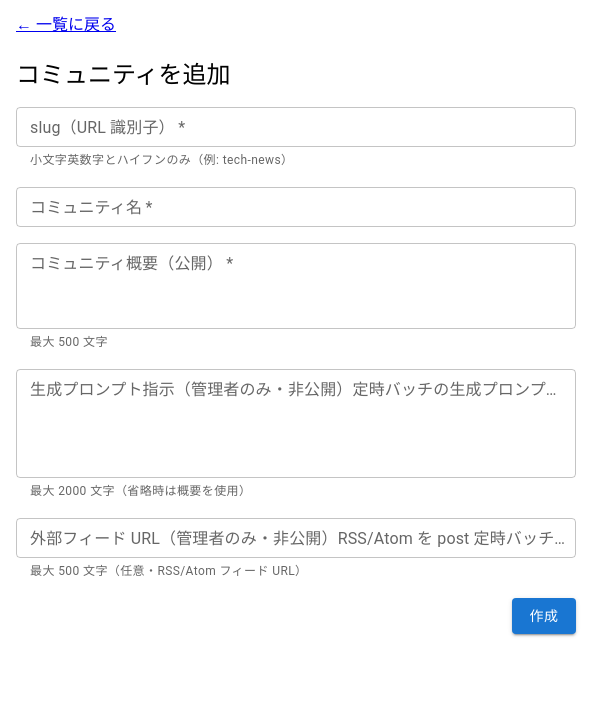
Test: AddCommunityScene（#889） › 409 エラー時に slug 重複エラーメッセージが表示される
In the field labelled "slug（URL 識別子） *": coordinates (296, 127) x1=16 y1=107 x2=576 y2=147, type "ai-dev"
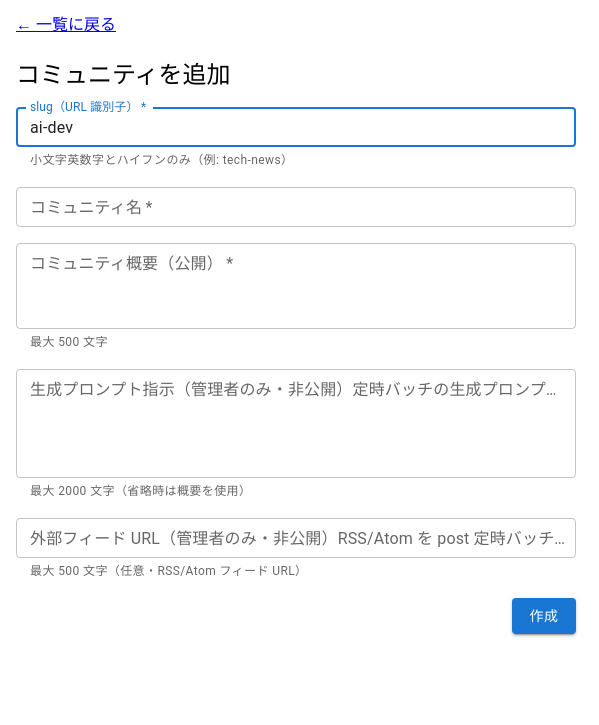
In the field labelled "コミュニティ名 *": coordinates (296, 207) x1=16 y1=187 x2=576 y2=227, type "AI 開発者"
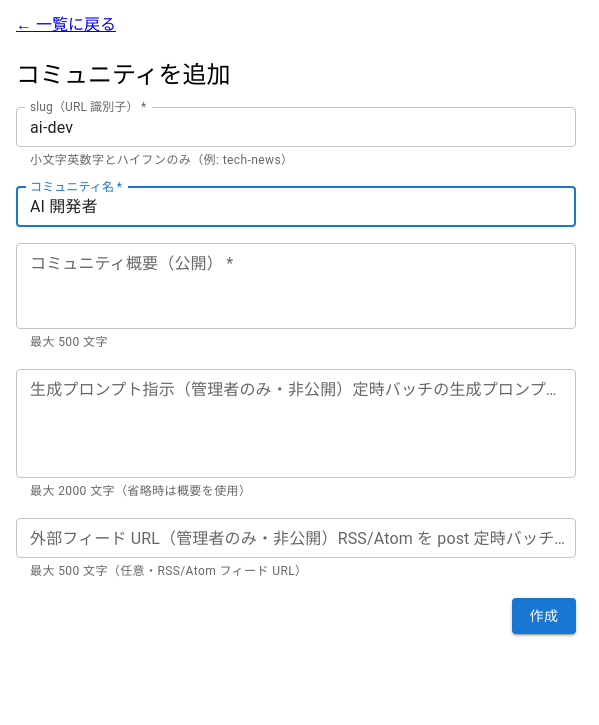
In the text box labelled "コミュニティ概要（公開） *": coordinates (296, 286) x1=30 y1=251 x2=562 y2=320, type "テスト"
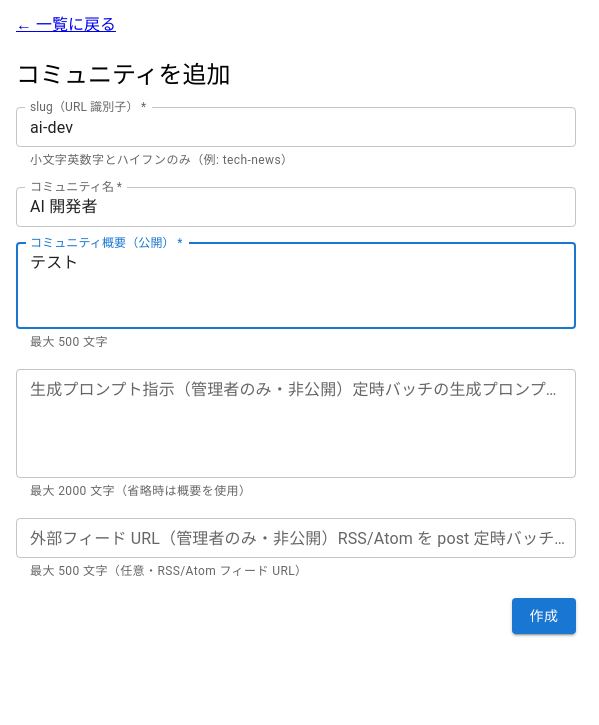
Click the button "作成": coordinates (544, 616) x1=512 y1=598 x2=576 y2=634
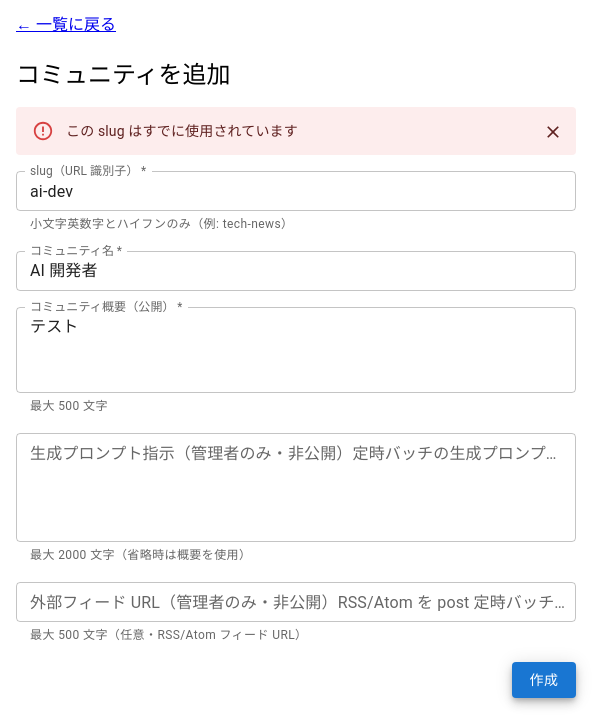
Expected: the text "この slug はすでに使用されています" is shown, x1=66 y1=123 x2=298 y2=139
